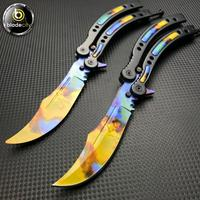knife: (46, 12, 189, 190), (3, 4, 140, 156)
